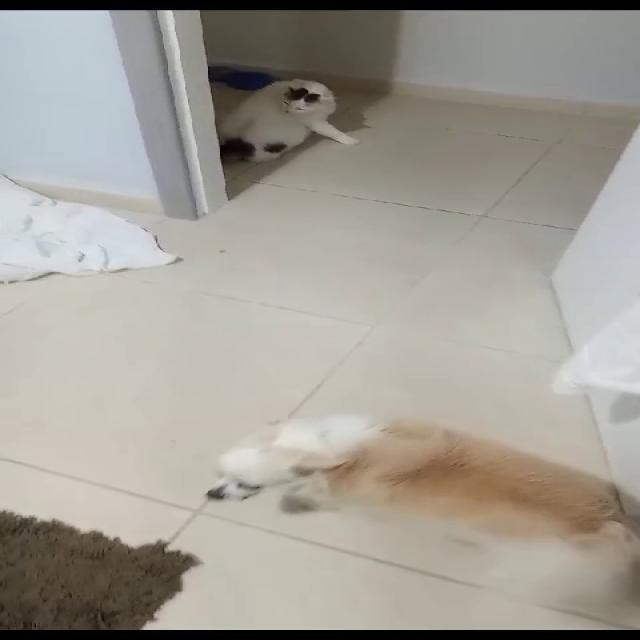Simba: (222, 64, 374, 182)
Theo: (177, 404, 639, 616)
